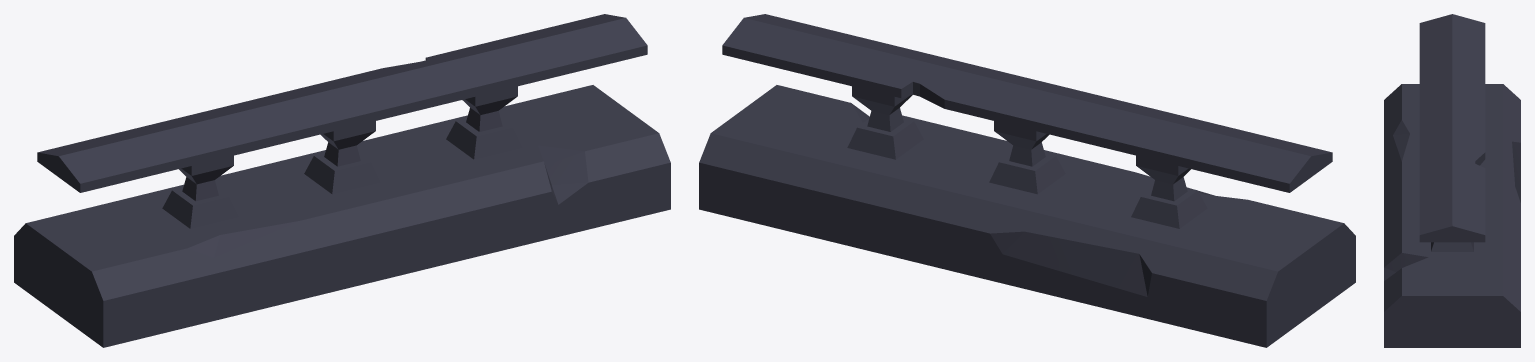
File: Railing_Small.fbx
3 views of the same model, side by side, from view 1: azimuth 30°, elevation 25°; view 2: azimuth 150°, elevation 25°; view 3: azimuth 270°, elevation 25° (orthographic). The views are drawn at different scales.
Visible parts, largest first — view 1: 1-Railing_Small; view 2: 1-Railing_Small; view 3: 1-Railing_Small.
Part boxes in pixels (x1,y1,x2,y2): 1-Railing_Small: [14, 14, 670, 347]; 1-Railing_Small: [699, 14, 1355, 347]; 1-Railing_Small: [1384, 14, 1520, 347].
Size of the model in its own units: 4 by 1.09 by 1.07.
